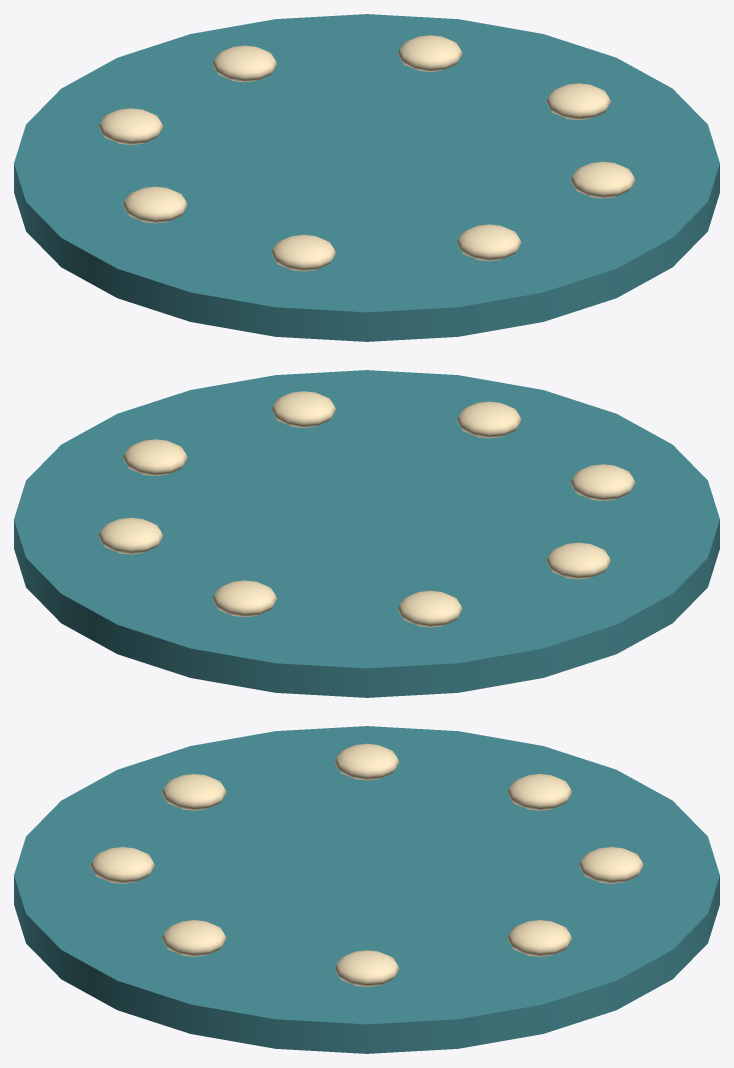
Rendered from prop-square-maris-spot.glb.
3 renders of one model, top to bottom at view 1: azimuth 30°, elevation 25°; view 2: azimuth 150°, elevation 25°; view 3: azimuth 270°, elevation 25°, orthographic.
Parts seen in each view (by area): view 1: maris-spot; view 2: maris-spot; view 3: maris-spot.
Boxes of the visible parts, <box> form: maris-spot: <box>14,14,719,341</box>; maris-spot: <box>14,370,719,697</box>; maris-spot: <box>14,726,719,1053</box>.
Size of the model in its own units: 1.3 by 0.105 by 1.3.
